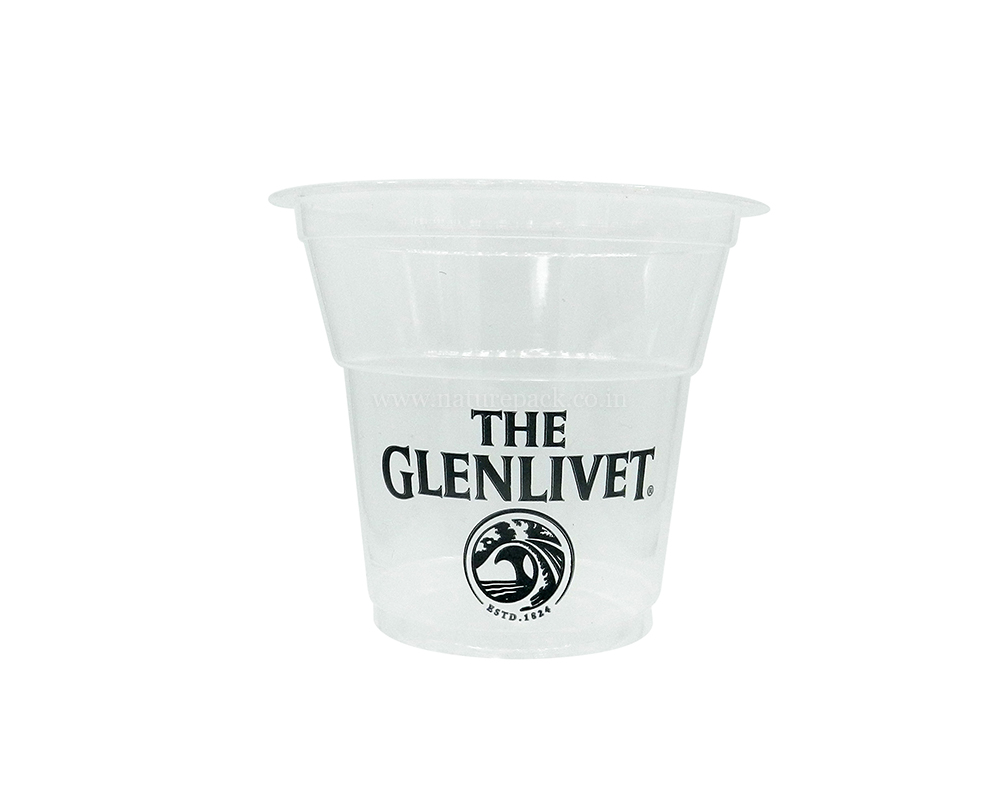plastic_glass: (263, 177, 779, 668)
